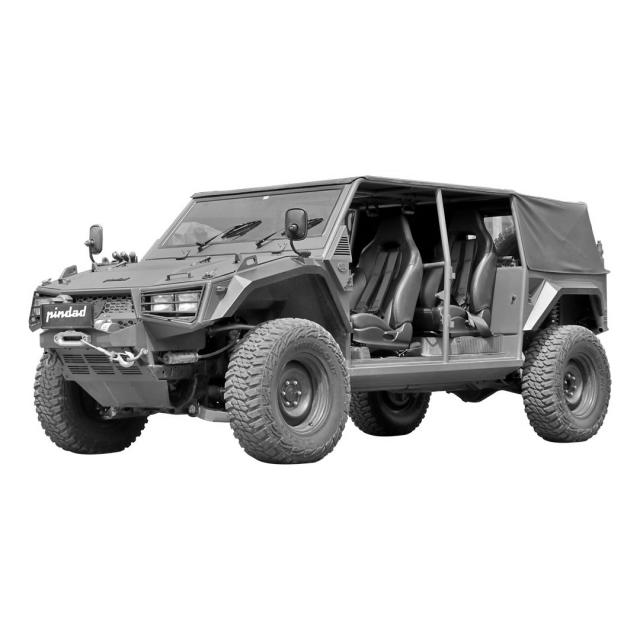Car: (29, 176, 612, 464)
